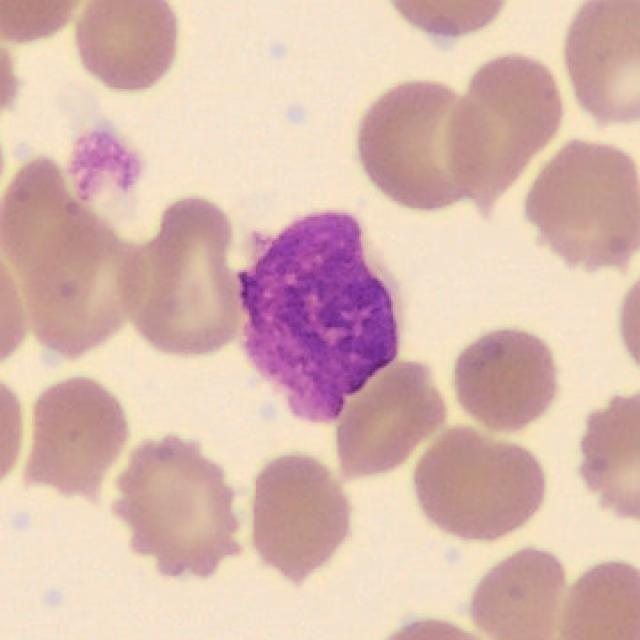Restos celulares: (238, 215, 398, 425)
